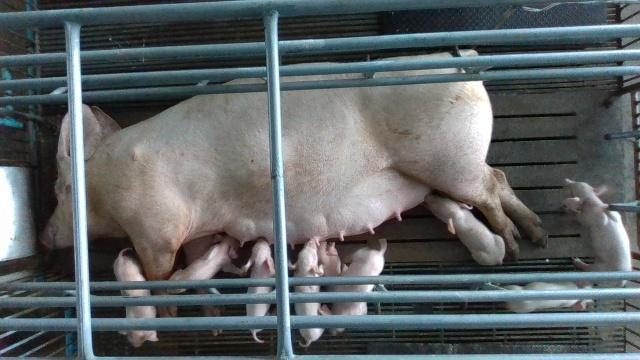piglet: (317, 239, 386, 337), (562, 177, 633, 272), (423, 195, 504, 266), (166, 232, 240, 295), (114, 245, 158, 348), (288, 240, 325, 349), (239, 238, 275, 344), (492, 280, 593, 312)
sow-sleep-lactate: (33, 51, 544, 337)
